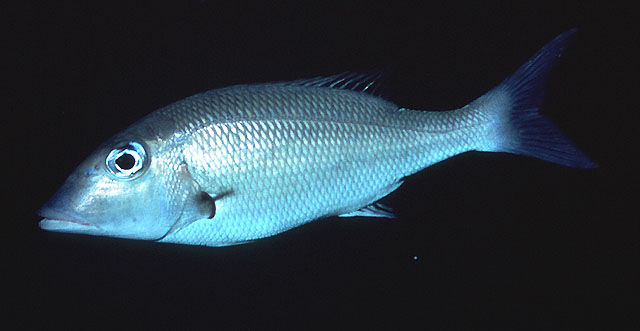fish: (37, 24, 600, 248)
